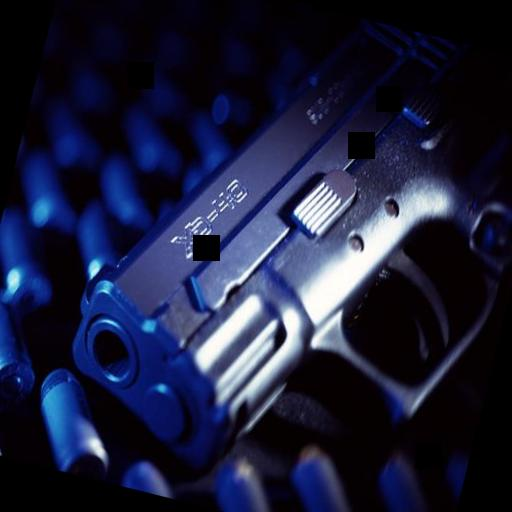Handgun: (51, 0, 512, 511)
